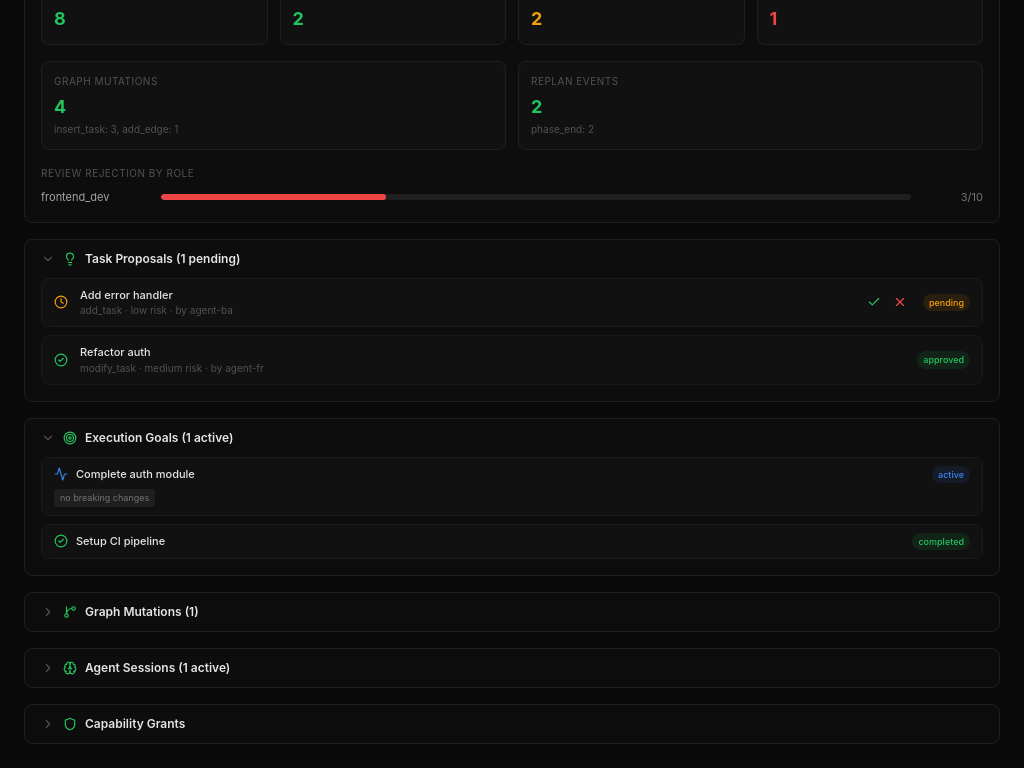
AgenticPanel › renders agent sessions after expanding
The width and height of the screenshot is (1024, 768).
(page scrolled)
What coordinates should you click on to do the following:
click the button "Agent Sessions (1 active)"
I would click on:
 (158, 668)
Its box is left=25, top=649, right=999, bottom=687.
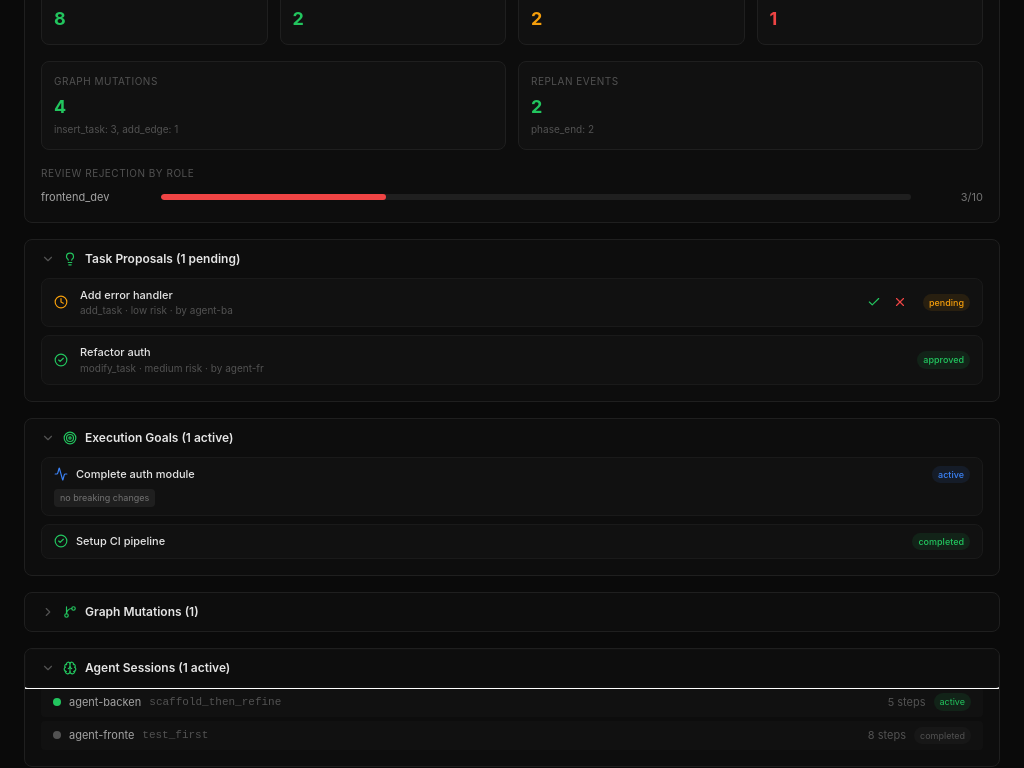
Expected: the text "5 steps" is shown, left=888, top=694, right=926, bottom=710
Expected: the text "8 steps" is shown, left=868, top=727, right=906, bottom=744
